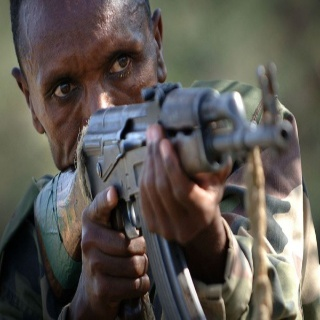rifle: (33, 62, 294, 320)
